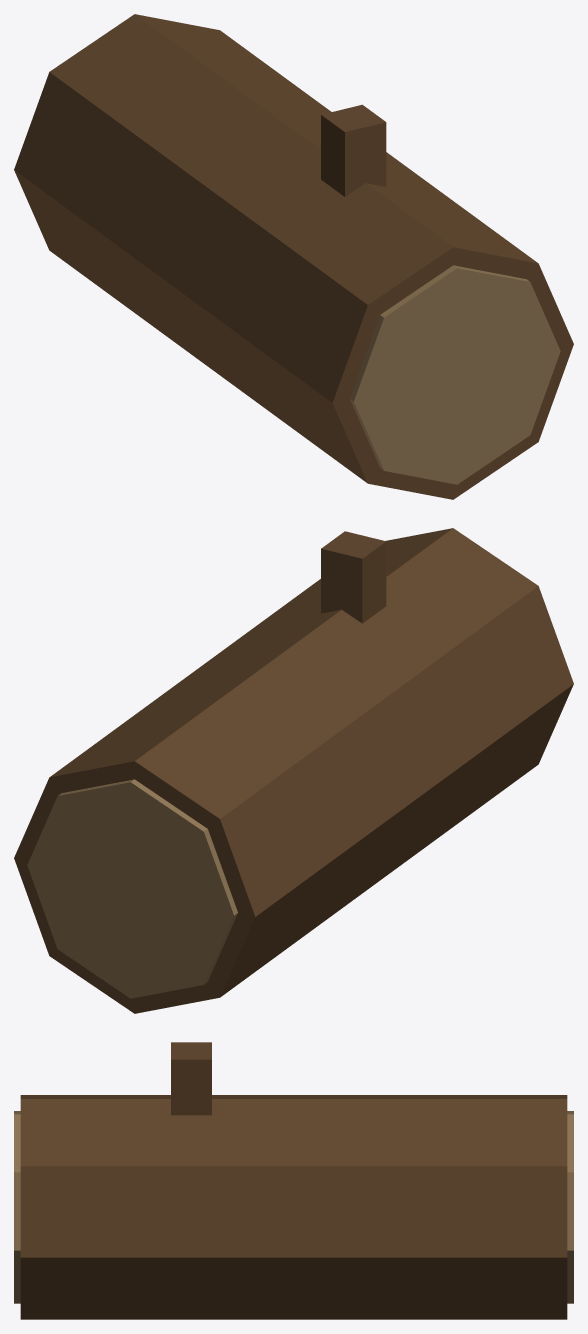
Rendered from log_rolling.glb.
3 renders of one model, top to bottom at view 1: azimuth 30°, elevation 25°; view 2: azimuth 150°, elevation 25°; view 3: azimuth 270°, elevation 25°, orthographic. The views are drawn at different scales.
Parts seen in each view (by area): view 1: bark, bark_light; view 2: bark, bark_light; view 3: bark, bark_light.
Part boxes in pixels (<box>): bark: <box>14,14,573,499</box>; bark_light: <box>350,265,560,484</box>; bark: <box>14,528,573,1013</box>; bark_light: <box>27,779,237,998</box>; bark: <box>20,1042,567,1319</box>; bark_light: <box>14,1111,573,1303</box>.
Size of the model in its own units: 0.7 by 0.855 by 1.64.
